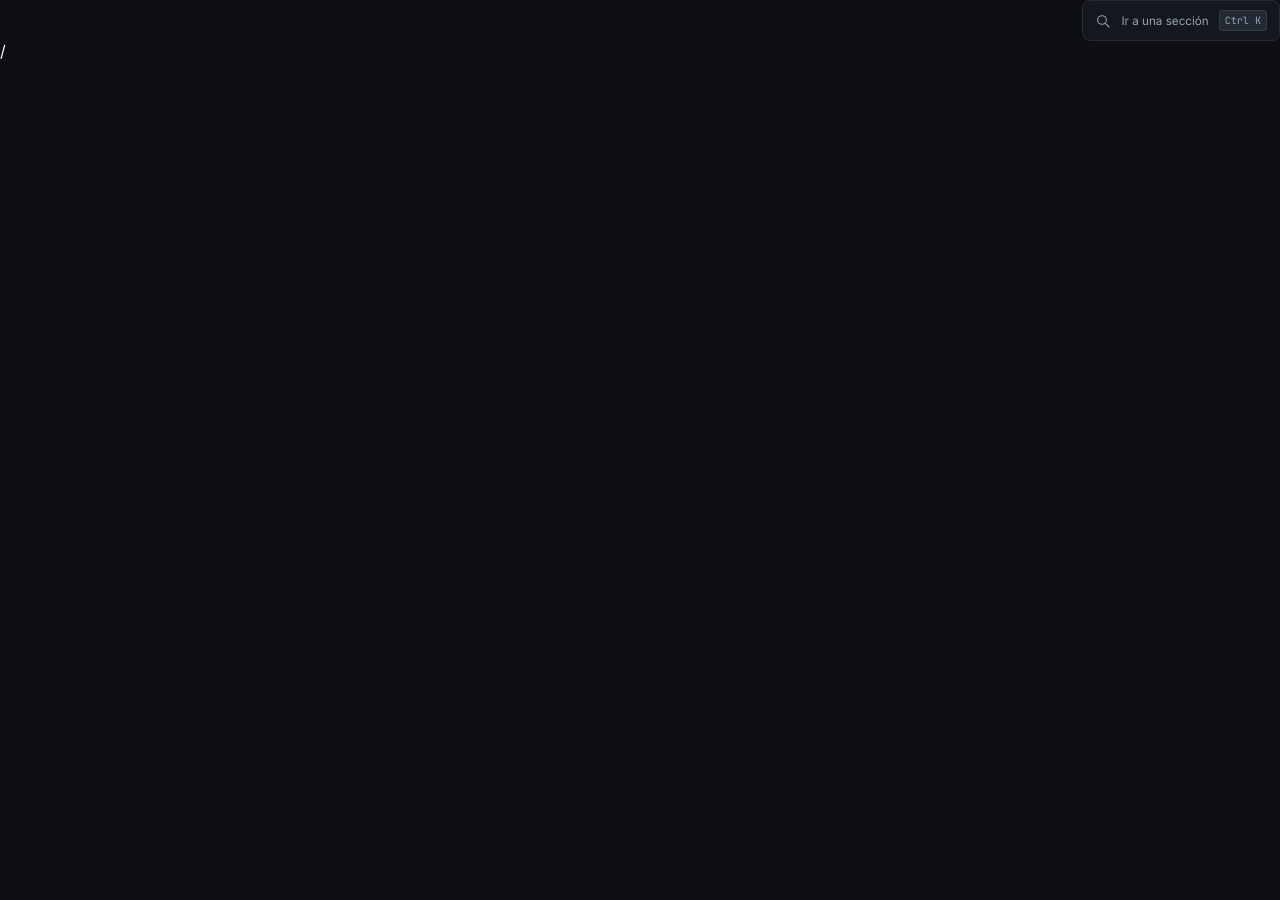
Test: abre la búsqueda con Ctrl K y navega a la coincidencia con Enter
Later steps or results of the test are not shown.
Press k
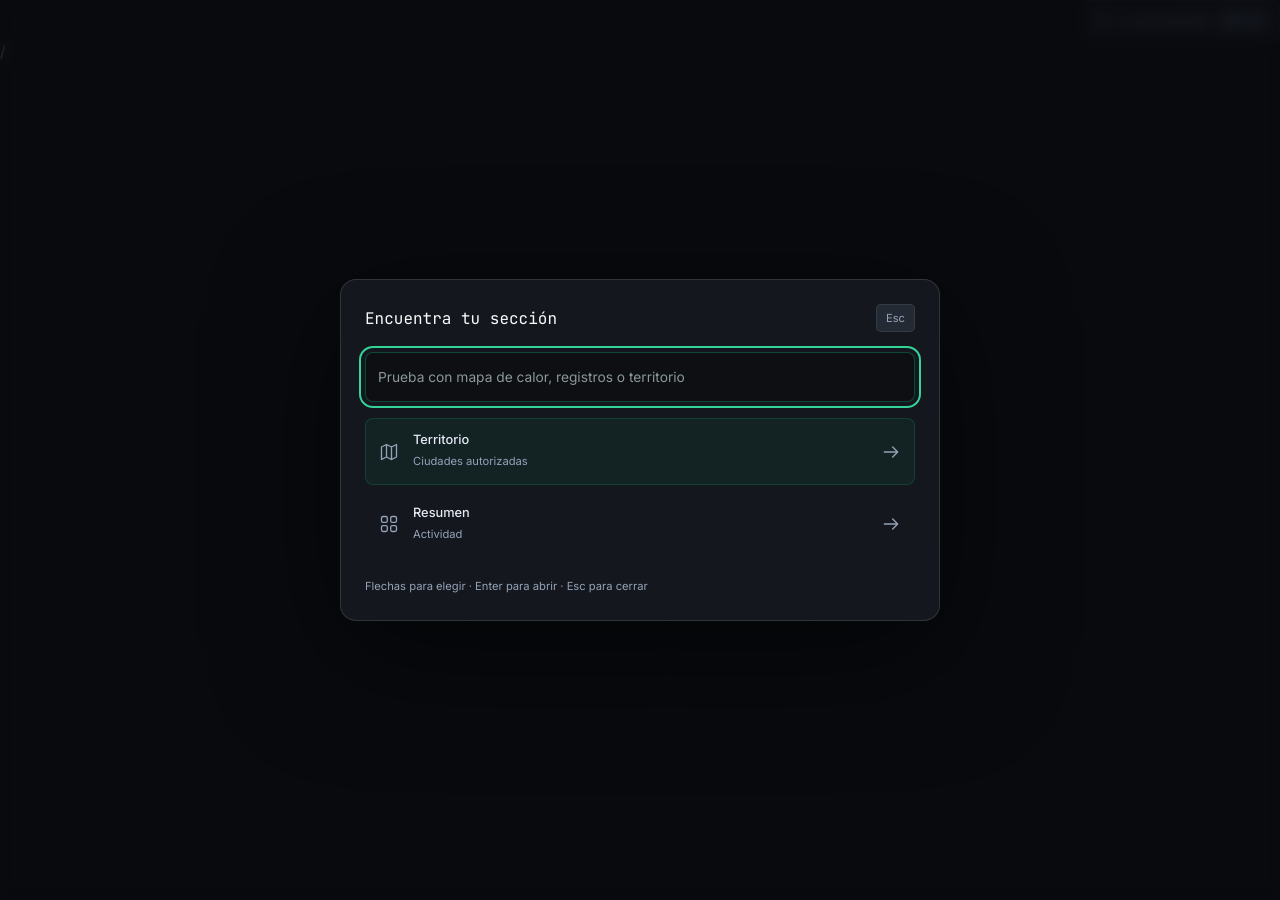
Type "Ciudades" into the field named "Buscar una sección" at (640, 377), box top-left (365, 352), bottom-right (915, 402)
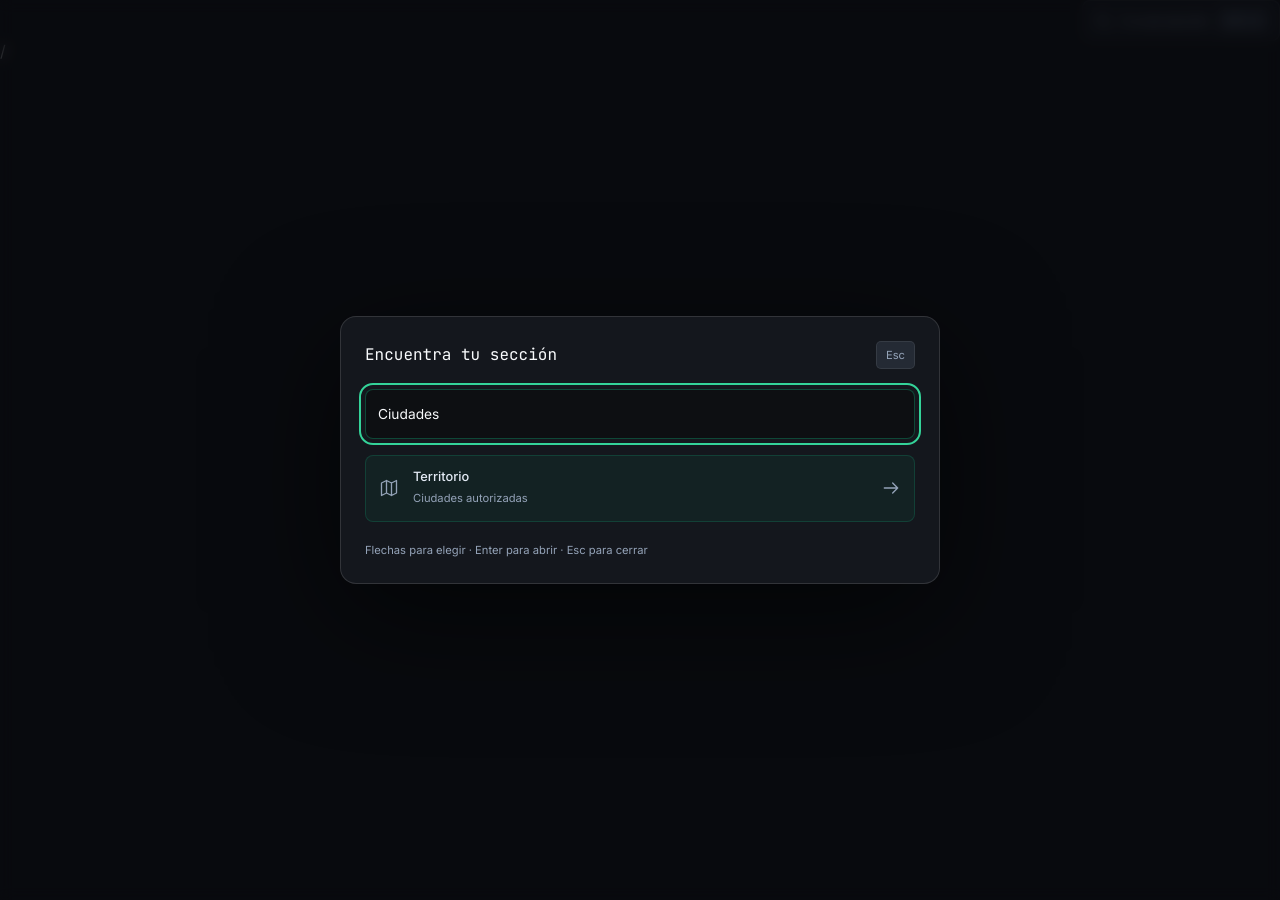
Expected: the button "Territorio Ciudades autorizadas" is shown, top-left (365, 455), bottom-right (915, 522)
Press Enter in the field named "Buscar una sección", box top-left (365, 389), bottom-right (915, 439)
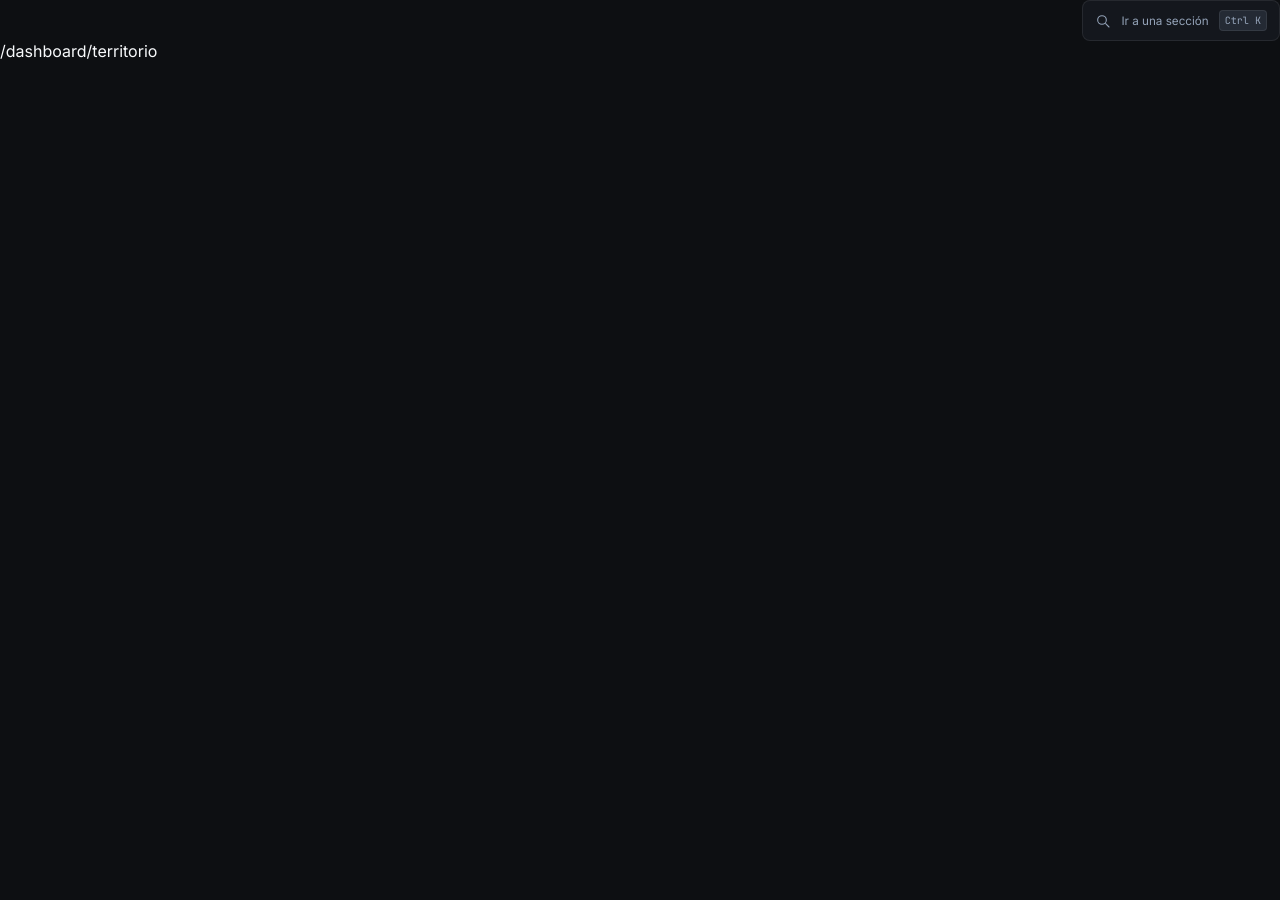
Expected: the text "/dashboard/territorio" is shown, top-left (0, 41), bottom-right (157, 61)
Expected: the dialog is gone
